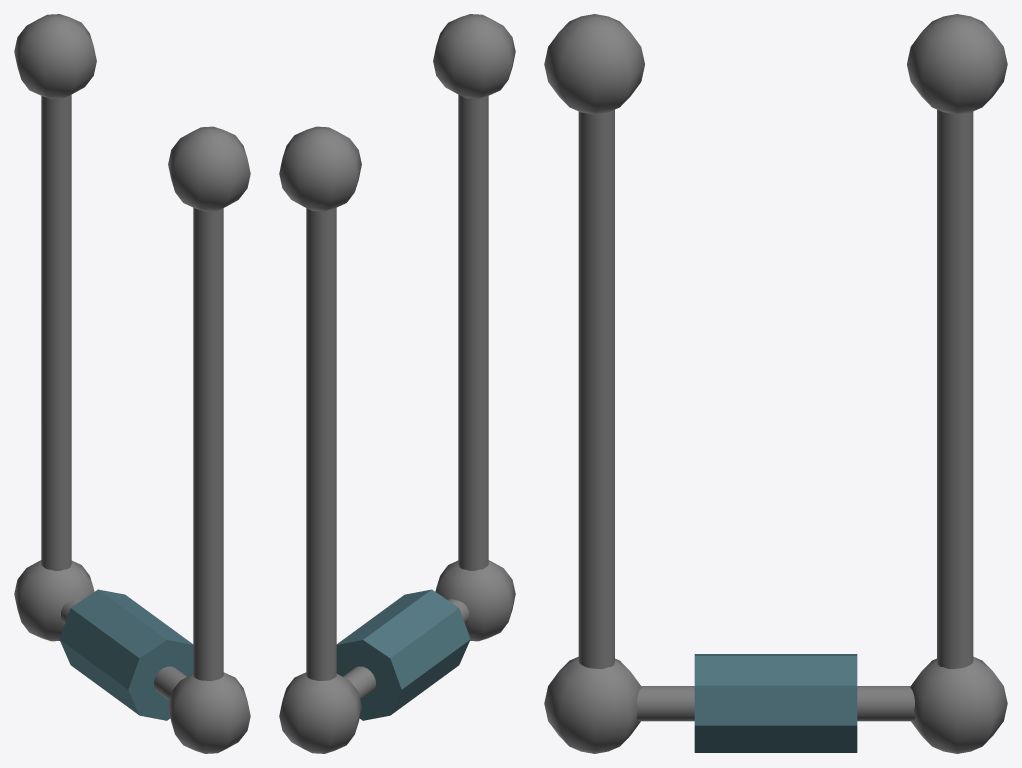
File: chassisConnector.obj
3 renders of one model, left to right at view 1: azimuth 30°, elevation 25°; view 2: azimuth 150°, elevation 25°; view 3: azimuth 270°, elevation 25°, orthographic. The views are drawn at different scales.
Visible parts, largest first — view 1: pCylinder25 connector1 pCylinder27, pCylinder25 connector2 pCylinder27, pCylinder25, pCylinder25 connector1 pSphere10, pCylinder25 connector2 pSphere11, pCylinder25 pSphere9 connector2, pCylinder25 pSphere9 connector1, pCylinder25 connector2 pCylinder26; view 2: pCylinder25 connector2 pCylinder27, pCylinder25 connector1 pCylinder27, pCylinder25, pCylinder25 connector2 pSphere11, pCylinder25 connector1 pSphere10, pCylinder25 pSphere9 connector1, pCylinder25 pSphere9 connector2, pCylinder25 connector1 pCylinder26; view 3: pCylinder25 connector1 pCylinder27, pCylinder25 connector2 pCylinder27, pCylinder25, pCylinder25 connector1 pSphere10, pCylinder25 connector2 pSphere11, pCylinder25 pSphere9 connector1, pCylinder25 pSphere9 connector2, pCylinder25 connector1 pCylinder26, pCylinder25 connector2 pCylinder26.
Boxes of the visible parts, left/top/right/bottom form: pCylinder25 connector1 pCylinder27: left=41, top=94, right=71, bottom=570; pCylinder25 connector2 pCylinder27: left=193, top=207, right=223, bottom=680; pCylinder25: left=59, top=589, right=193, bottom=720; pCylinder25 connector1 pSphere10: left=14, top=14, right=96, bottom=98; pCylinder25 connector2 pSphere11: left=168, top=126, right=250, bottom=211; pCylinder25 pSphere9 connector2: left=168, top=672, right=250, bottom=753; pCylinder25 pSphere9 connector1: left=14, top=560, right=94, bottom=641; pCylinder25 connector2 pCylinder26: left=154, top=666, right=186, bottom=700; pCylinder25 connector2 pCylinder27: left=458, top=94, right=488, bottom=570; pCylinder25 connector1 pCylinder27: left=306, top=207, right=336, bottom=680; pCylinder25: left=336, top=589, right=470, bottom=720; pCylinder25 connector2 pSphere11: left=433, top=14, right=515, bottom=98; pCylinder25 connector1 pSphere10: left=279, top=126, right=361, bottom=211; pCylinder25 pSphere9 connector1: left=279, top=672, right=361, bottom=753; pCylinder25 pSphere9 connector2: left=435, top=560, right=515, bottom=641; pCylinder25 connector1 pCylinder26: left=343, top=666, right=375, bottom=700; pCylinder25 connector1 pCylinder27: left=937, top=109, right=973, bottom=669; pCylinder25 connector2 pCylinder27: left=578, top=109, right=614, bottom=669; pCylinder25: left=694, top=654, right=857, bottom=752; pCylinder25 connector1 pSphere10: left=907, top=14, right=1007, bottom=114; pCylinder25 connector2 pSphere11: left=544, top=14, right=644, bottom=114; pCylinder25 pSphere9 connector1: left=910, top=656, right=1007, bottom=753; pCylinder25 pSphere9 connector2: left=544, top=656, right=641, bottom=753; pCylinder25 connector1 pCylinder26: left=857, top=686, right=914, bottom=721; pCylinder25 connector2 pCylinder26: left=637, top=686, right=694, bottom=721.
Bounding box in the file's own units: 2 × 15.36 × 8.81.
